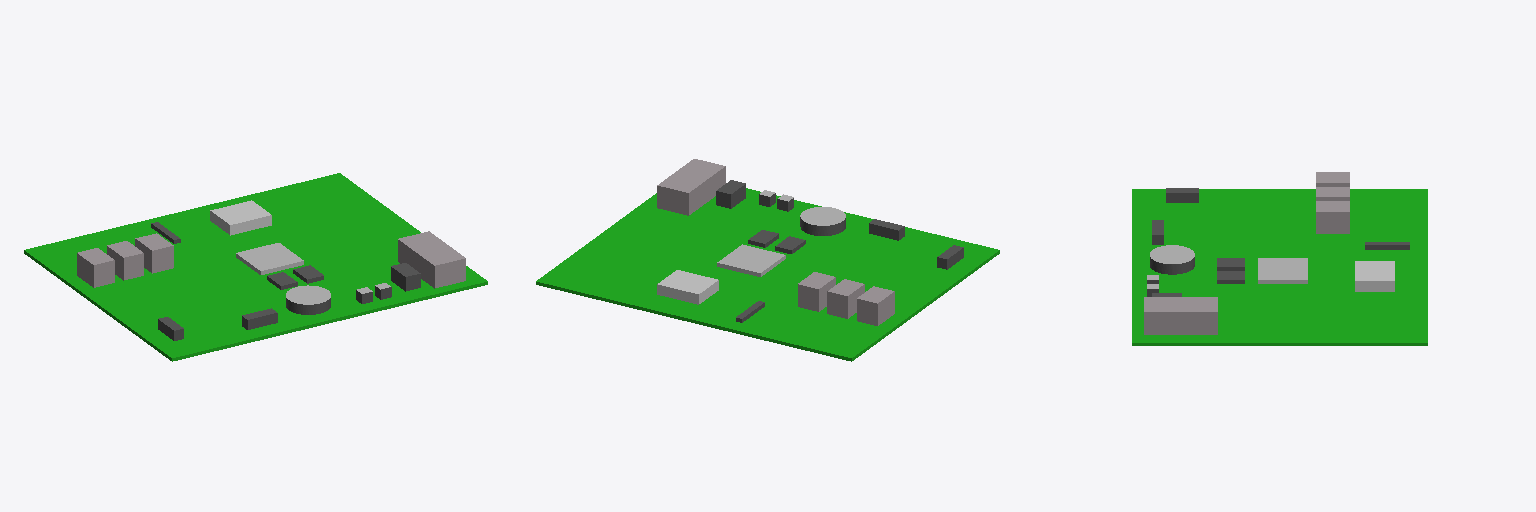
Rendered from Motherboard.obj.
The picture shows the model from 3 angles: view 1: azimuth 30°, elevation 25°; view 2: azimuth 150°, elevation 25°; view 3: azimuth 270°, elevation 25°; orthographic projection.
Parts seen in each view (by area): view 1: Solid1-4, Solid1, Solid1-1, Solid1-2, Solid1-3; view 2: Solid1-4, Solid1, Solid1-1, Solid1-2, Solid1-3; view 3: Solid1-4, Solid1, Solid1-1, Solid1-2, Solid1-3.
Part boxes in pixels (left/top/right/bottom): Solid1-4: left=24, top=173, right=487, bottom=361; Solid1: left=77, top=231, right=465, bottom=288; Solid1-1: left=151, top=222, right=420, bottom=340; Solid1-2: left=236, top=243, right=390, bottom=304; Solid1-3: left=210, top=200, right=271, bottom=235; Solid1-4: left=536, top=188, right=999, bottom=361; Solid1: left=657, top=159, right=894, bottom=325; Solid1-1: left=716, top=180, right=963, bottom=322; Solid1-2: left=717, top=190, right=845, bottom=276; Solid1-3: left=657, top=270, right=718, bottom=304; Solid1-4: left=1132, top=189, right=1427, bottom=345; Solid1: left=1144, top=172, right=1349, bottom=334; Solid1-1: left=1147, top=188, right=1409, bottom=296; Solid1-2: left=1147, top=245, right=1307, bottom=288; Solid1-3: left=1355, top=261, right=1394, bottom=291.
Bounding box in the file's own units: 16 × 1.26 × 13.